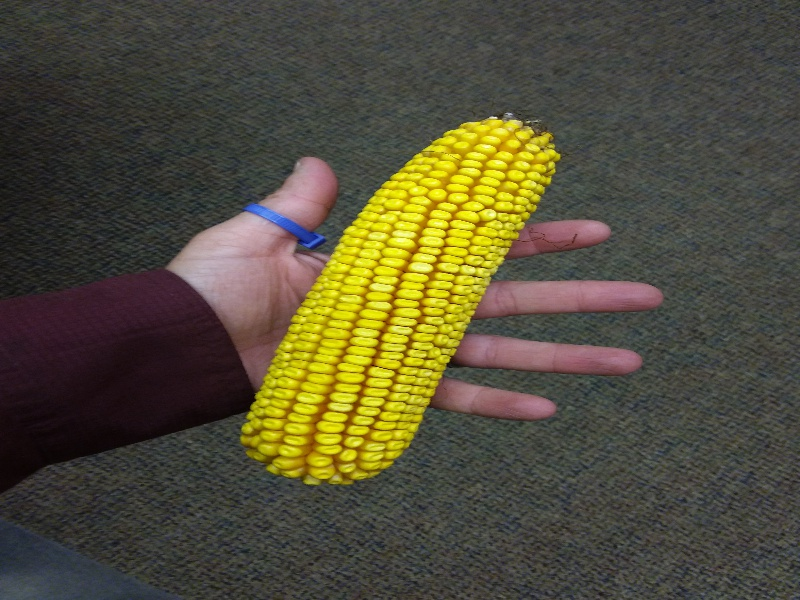band: (241, 200, 325, 250)
ear: (237, 107, 566, 490)
